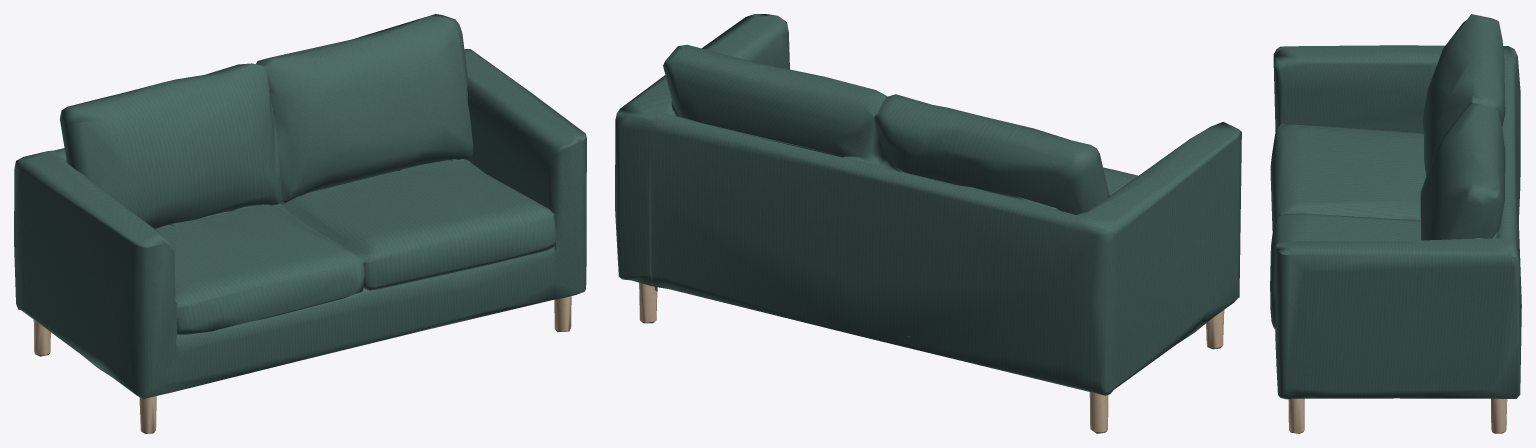
File: parup_pokrycie_sofy_2_osobowej_30567478.glb
3 renders of one model, left to right at view 1: azimuth 30°, elevation 25°; view 2: azimuth 150°, elevation 25°; view 3: azimuth 270°, elevation 25°, orthographic. The views are drawn at different scales.
Visible parts, largest first — view 1: parup_pokrycie_sofy_2_osobowej_30567478; view 2: parup_pokrycie_sofy_2_osobowej_30567478; view 3: parup_pokrycie_sofy_2_osobowej_30567478.
Boxes of the visible parts, <box> form: parup_pokrycie_sofy_2_osobowej_30567478: <box>14,14,586,433</box>; parup_pokrycie_sofy_2_osobowej_30567478: <box>615,14,1241,433</box>; parup_pokrycie_sofy_2_osobowej_30567478: <box>1270,14,1521,433</box>.
Size of the model in its own units: 1.66 by 0.8712 by 0.8358.
1 material, 1 textured.
